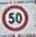limite 50: (0, 4, 28, 30)
